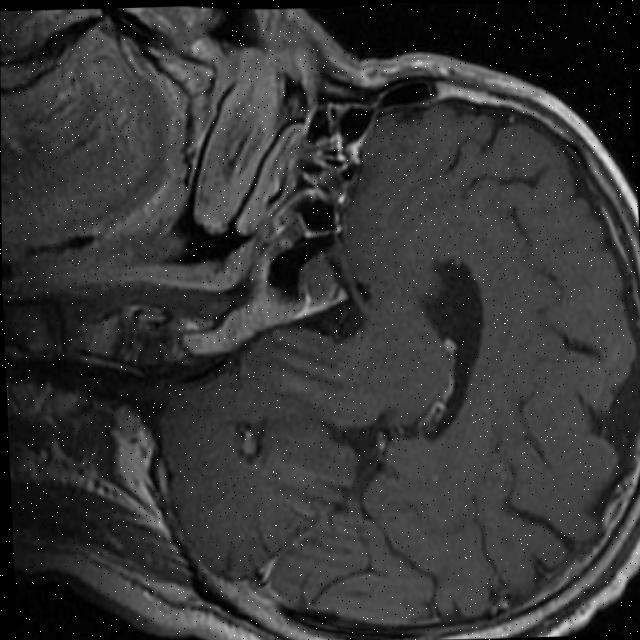Pituitary: (295, 254, 337, 305)
